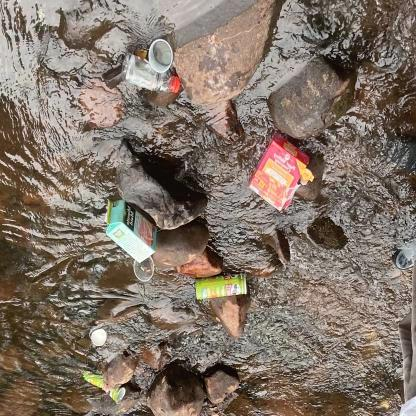Metal: (76, 358, 131, 410)
Plastic: (119, 38, 184, 98)
Trash: (87, 322, 114, 349)
